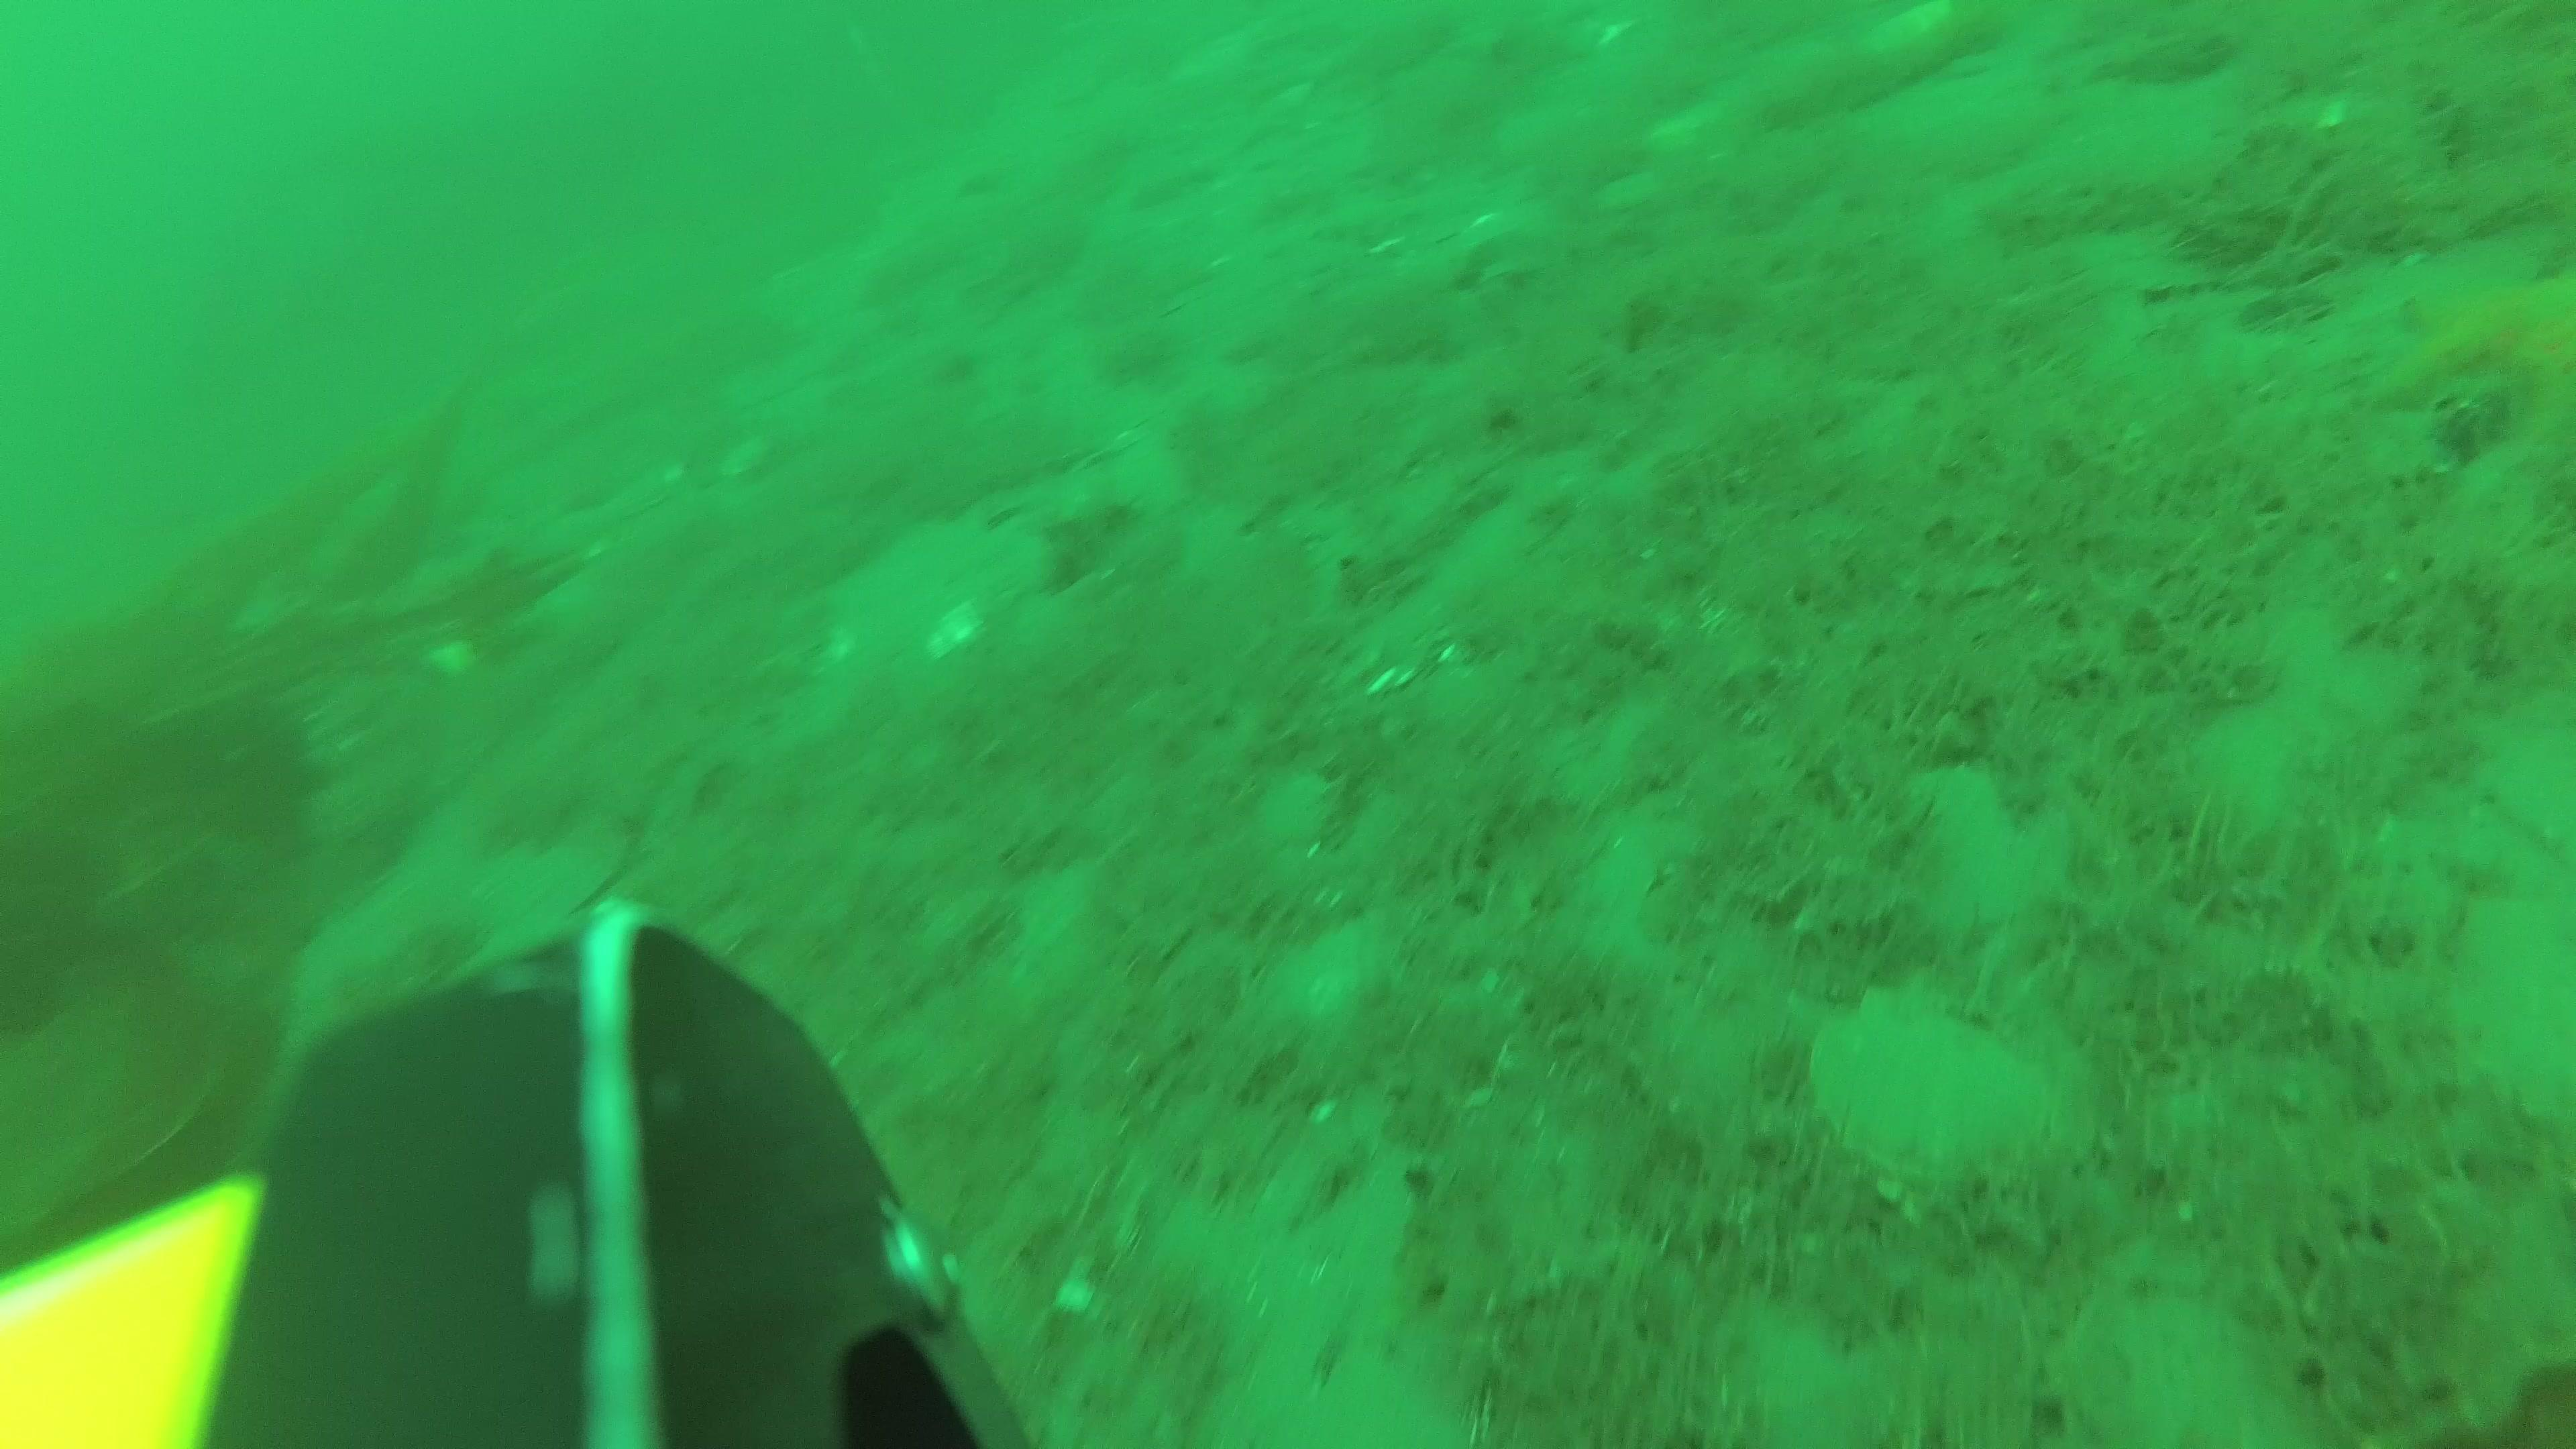scallop: (1798, 991, 2066, 1169), (1900, 761, 2074, 924), (1854, 0, 1960, 55), (927, 602, 978, 655)
starfish: (2365, 258, 2576, 419)
